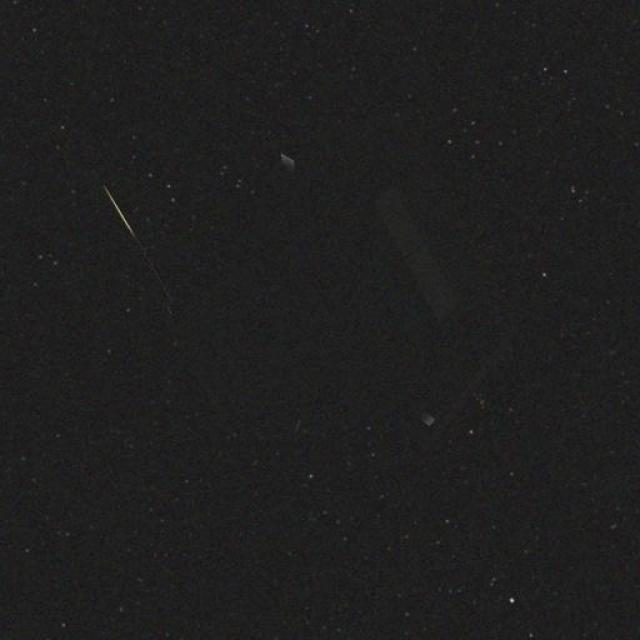cheops: (115, 126, 530, 342)
